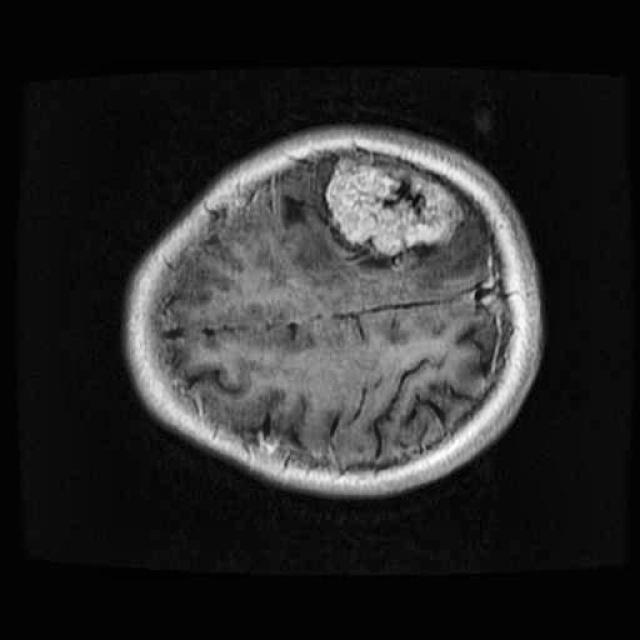Tumor: (311, 145, 469, 271)
